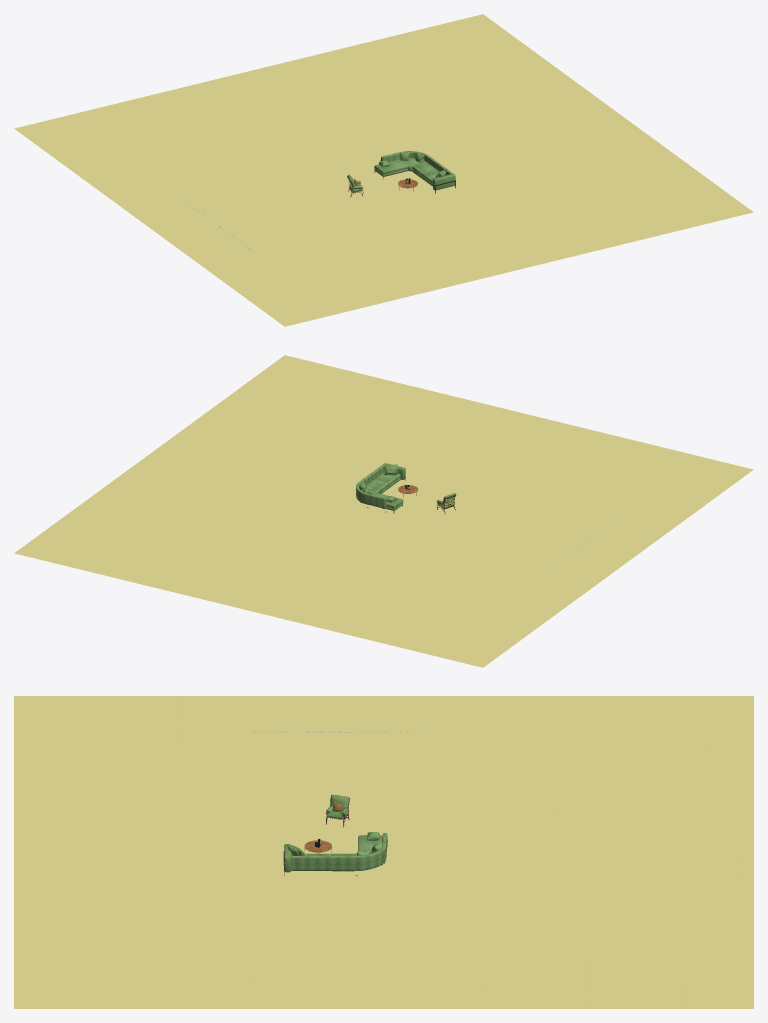
The model's file is sofa6.glb.
3 views of the same model, one above another, from view 1: azimuth 30°, elevation 25°; view 2: azimuth 150°, elevation 25°; view 3: azimuth 270°, elevation 25° (orthographic). The views are drawn at different scales.
Parts seen in each view (by area): view 1: Cube, Cube.004; view 2: Cube, Cube.004; view 3: Cube, Cube.004.
Part boxes in pixels (x1,y1,x2,y2): Cube: (14,14,753,326); Cube.004: (348,151,455,191); Cube: (14,355,753,667); Cube.004: (356,463,455,510); Cube: (14,696,753,1008); Cube.004: (284,794,387,872).
Size of the model in its own units: 385 by 14.83 by 385.
7 materials, 6 textured.
